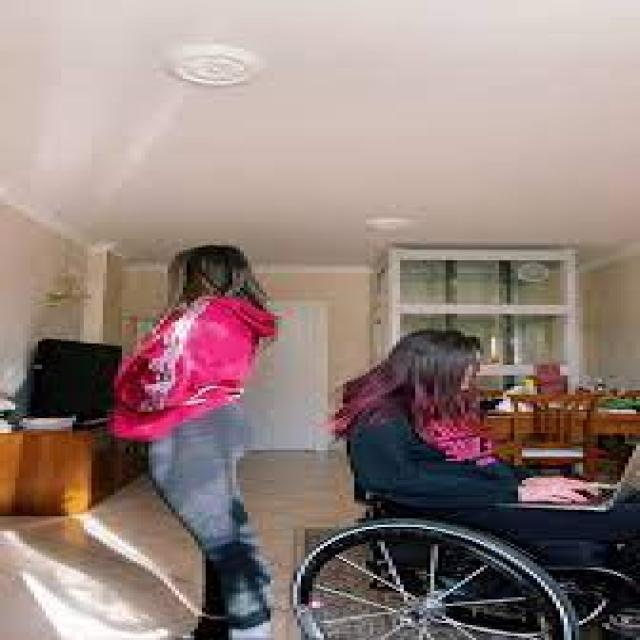wheelchairs: (251, 469, 640, 640)
